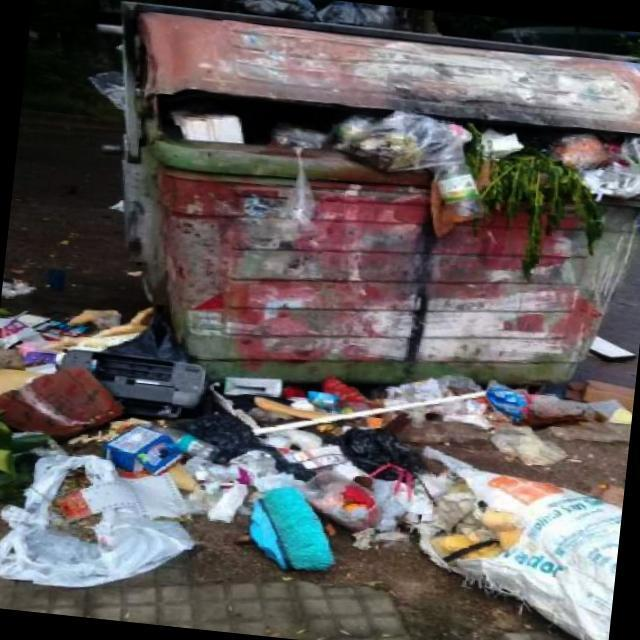garbage: (202, 371, 631, 640), (0, 267, 234, 599), (144, 92, 640, 235), (224, 0, 418, 49), (506, 374, 634, 418), (585, 323, 640, 370)
